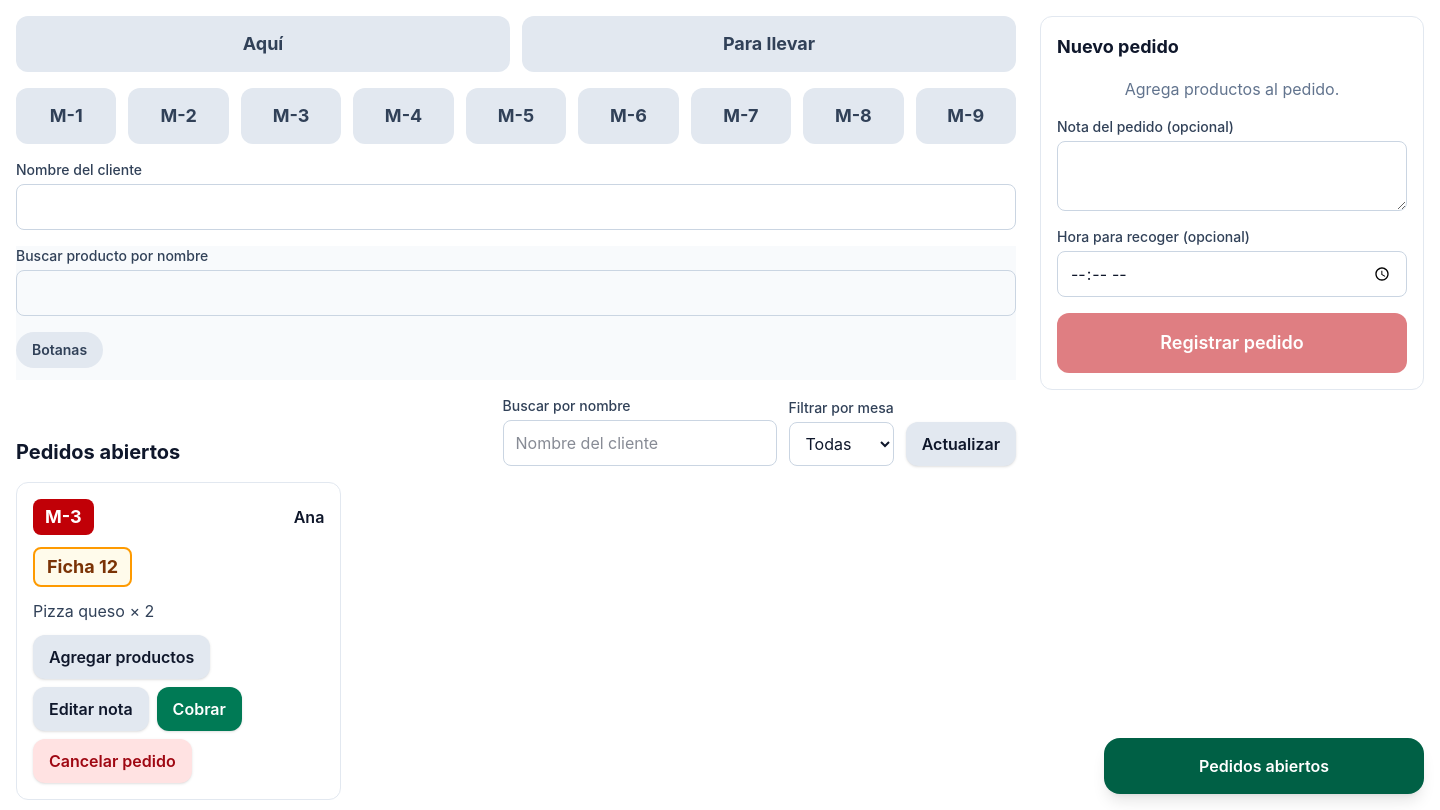
Scenario: OrdersPage › requires choosing Aquí or Para llevar, sends it and resets it after registering
What coordinates should you click on to do the following:
click the button "M-4"
I would click on:
 (404, 116)
Its box is [353,88,454,144].
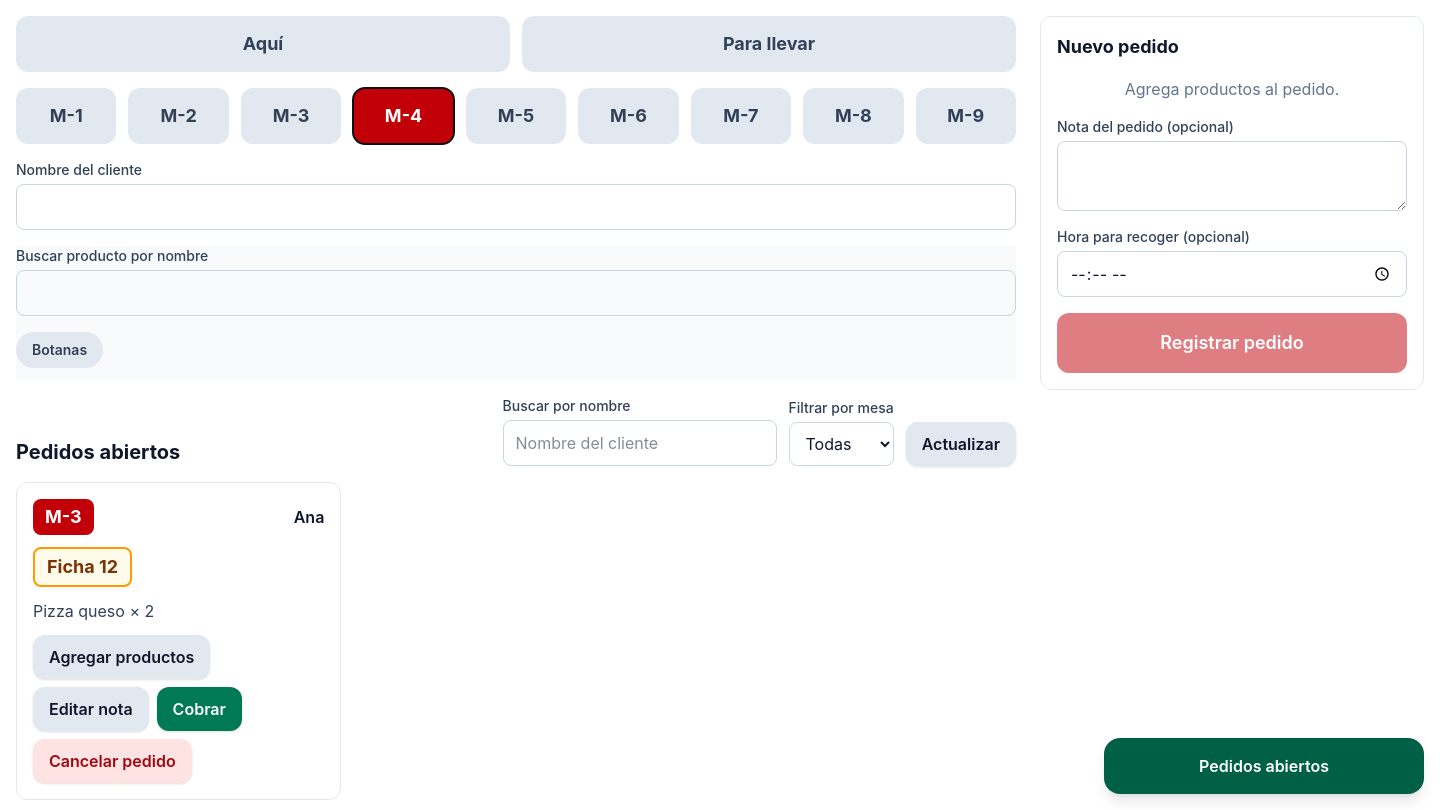
What coordinates should you click on to do the following:
click the button "Botanas"
I would click on:
 (60, 350)
Its box is [16,332,103,368].
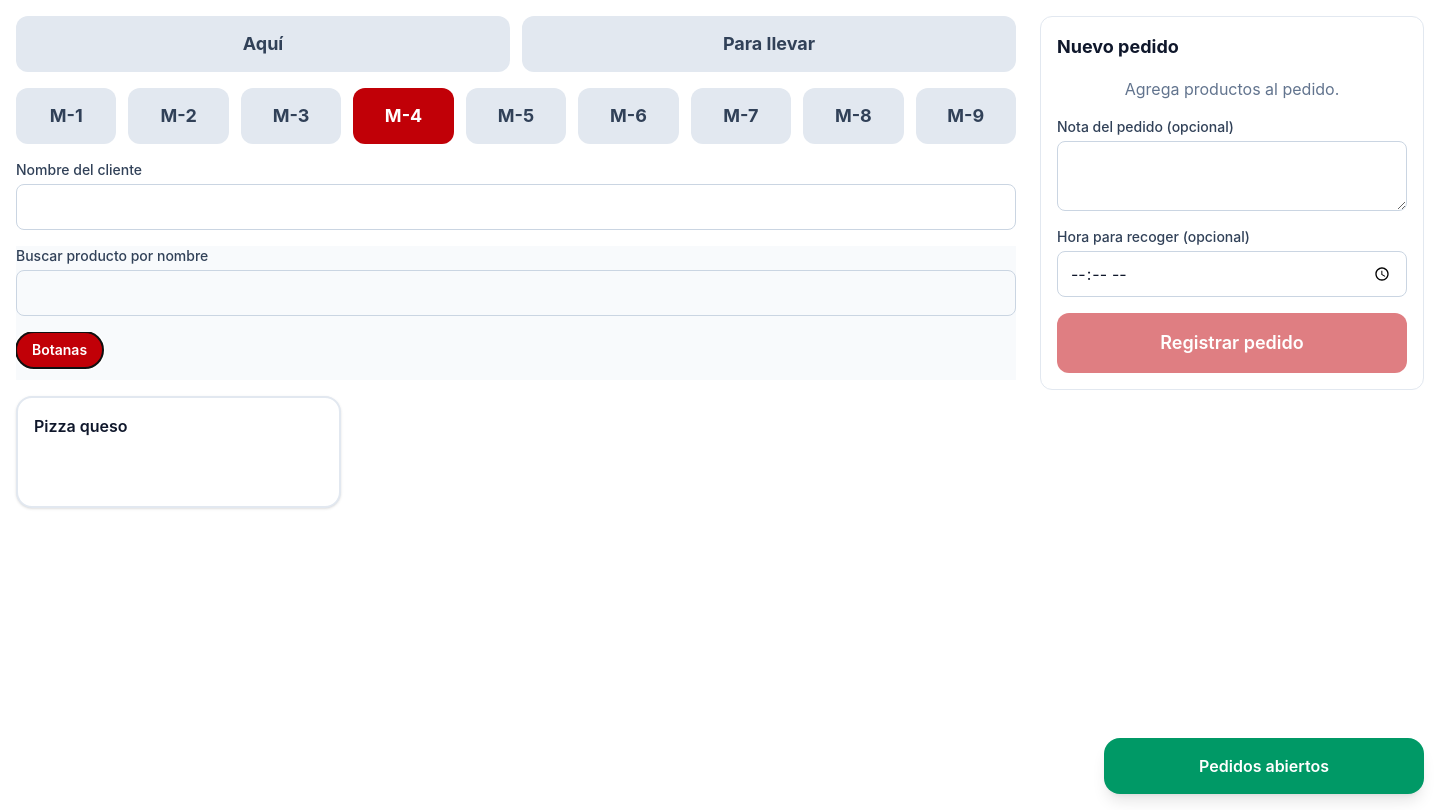
What coordinates should you click on to do the following:
click the button "Pizza queso"
I would click on:
 (81, 426)
Its box is [16,396,341,508].
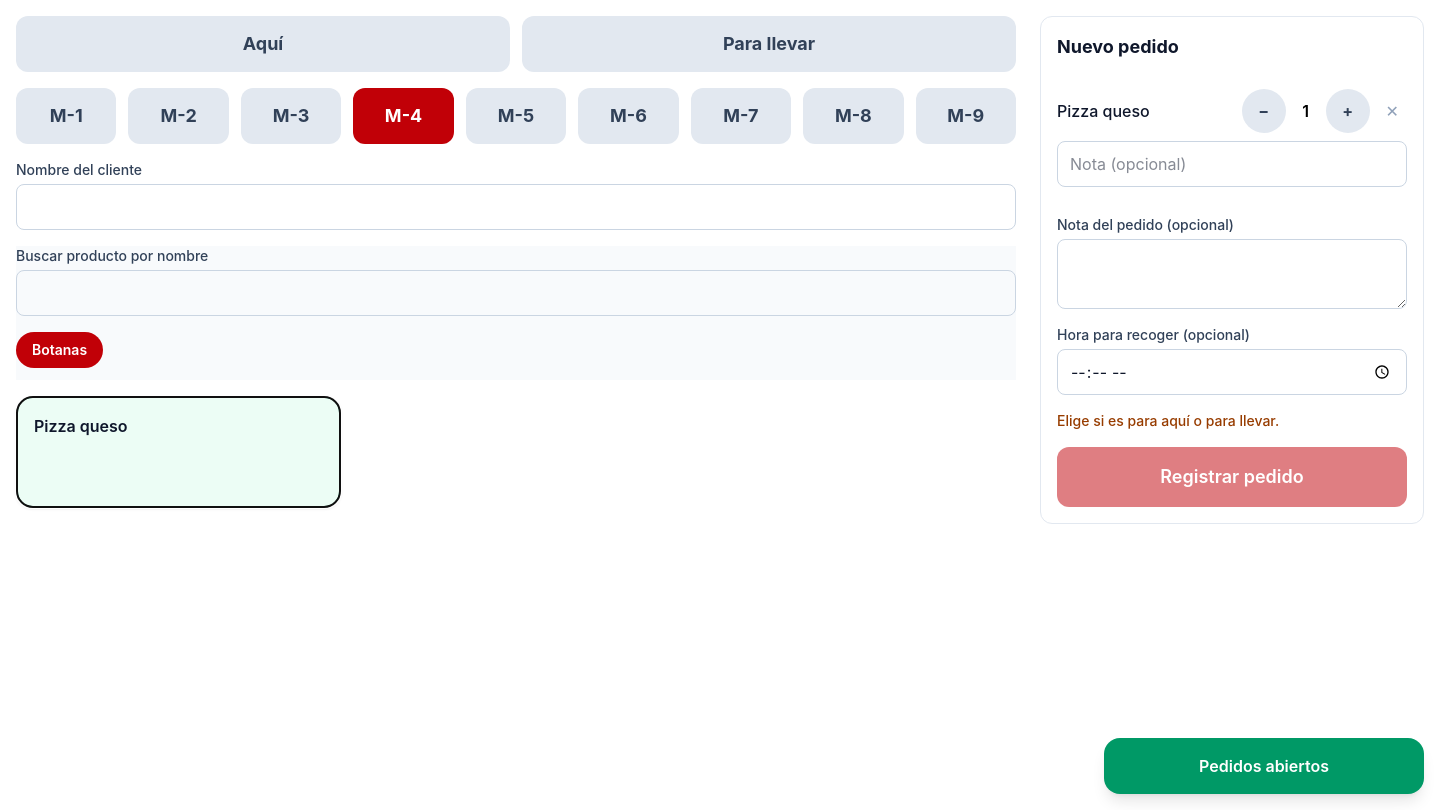
Expected: the button "Registrar pedido" is disabled, [1057,447,1407,507]
What coordinates should you click on to do the following:
click the button "Para llevar"
I would click on:
 (769, 44)
Its box is [522,16,1016,72].
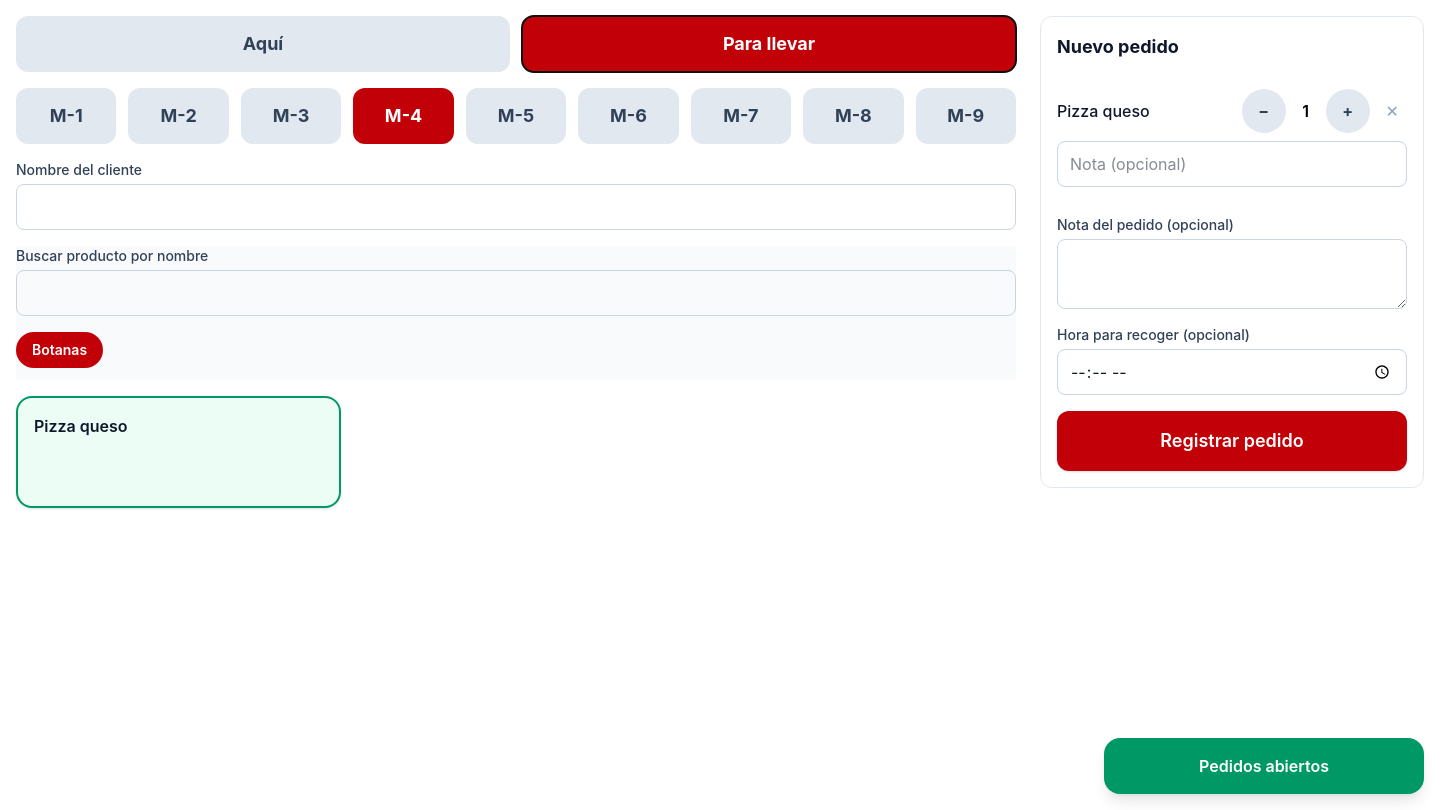
Expected: the button "Registrar pedido" is enabled
What coordinates should you click on to do the following:
click the button "Registrar pedido"
I would click on:
 (1232, 441)
Its box is [1057,411,1407,471].
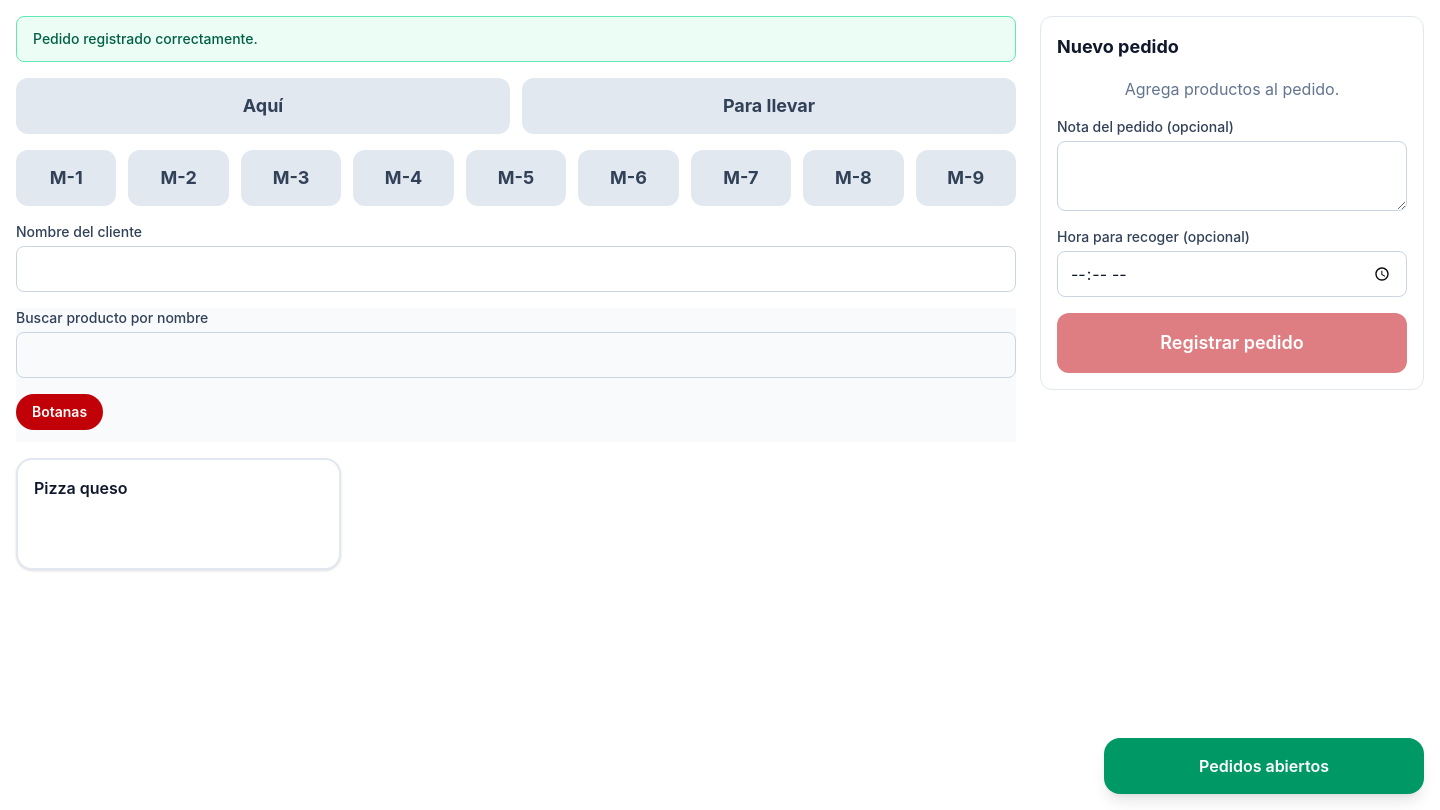
Expected: the message shows "Pedido registrado", [33,30,258,47]
